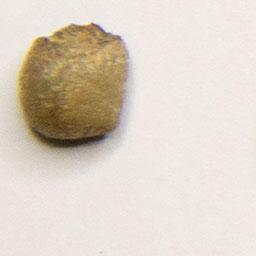defect: (15, 17, 134, 151)
